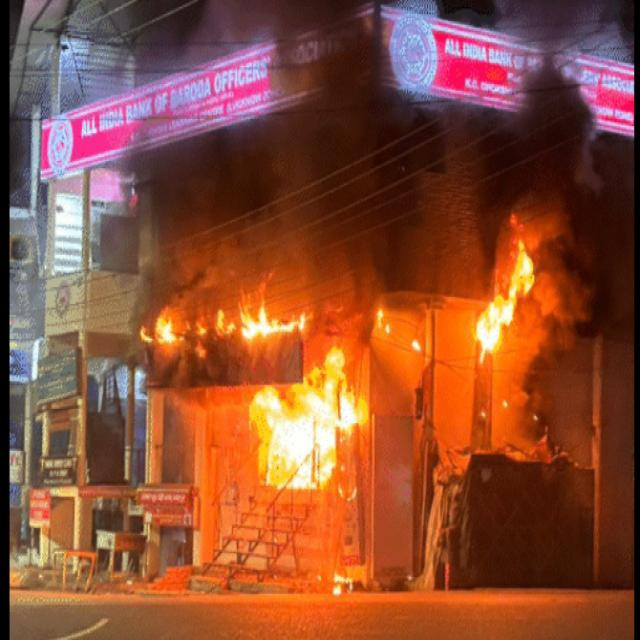fire: (249, 346, 368, 490), (474, 240, 534, 362), (241, 302, 313, 341)
